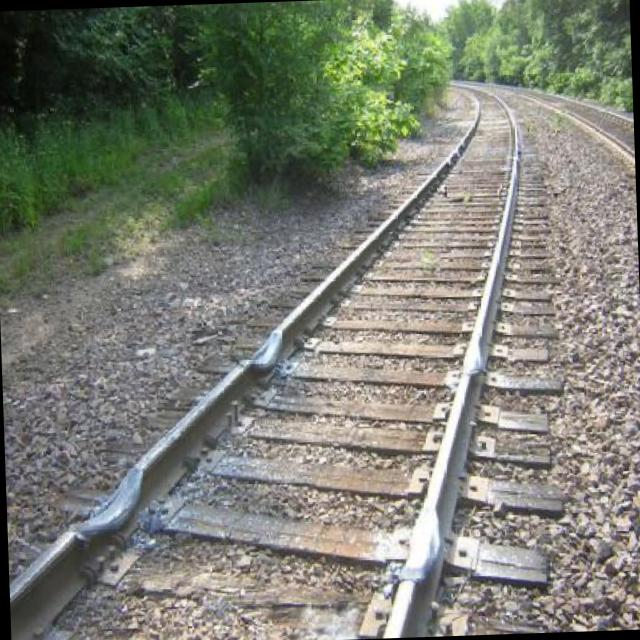defective: (45, 444, 182, 586), (222, 296, 325, 424), (370, 478, 472, 605), (419, 317, 525, 421)
